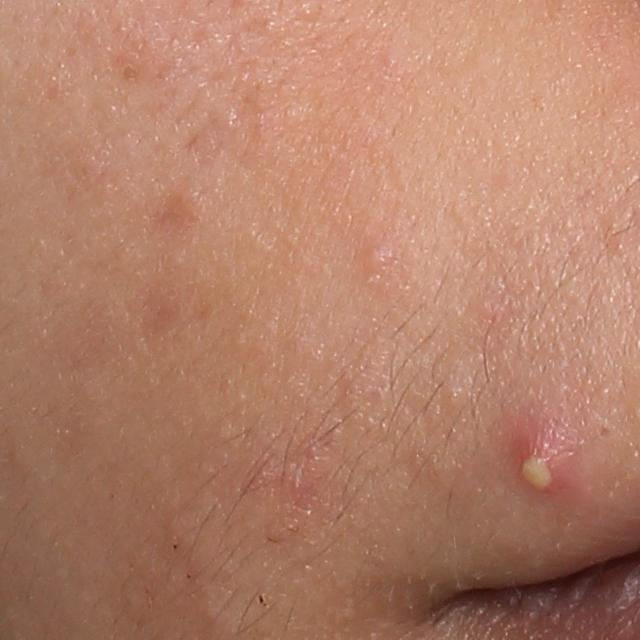comedo: (439, 378, 470, 412)
papule: (263, 444, 331, 512), (364, 241, 398, 275)
pustule: (516, 417, 578, 491)
